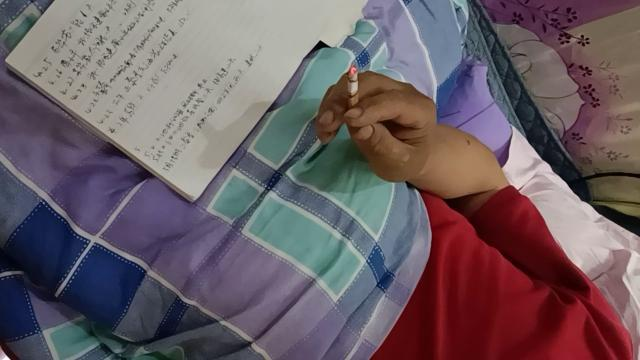Smoking: (348, 64, 360, 118)
